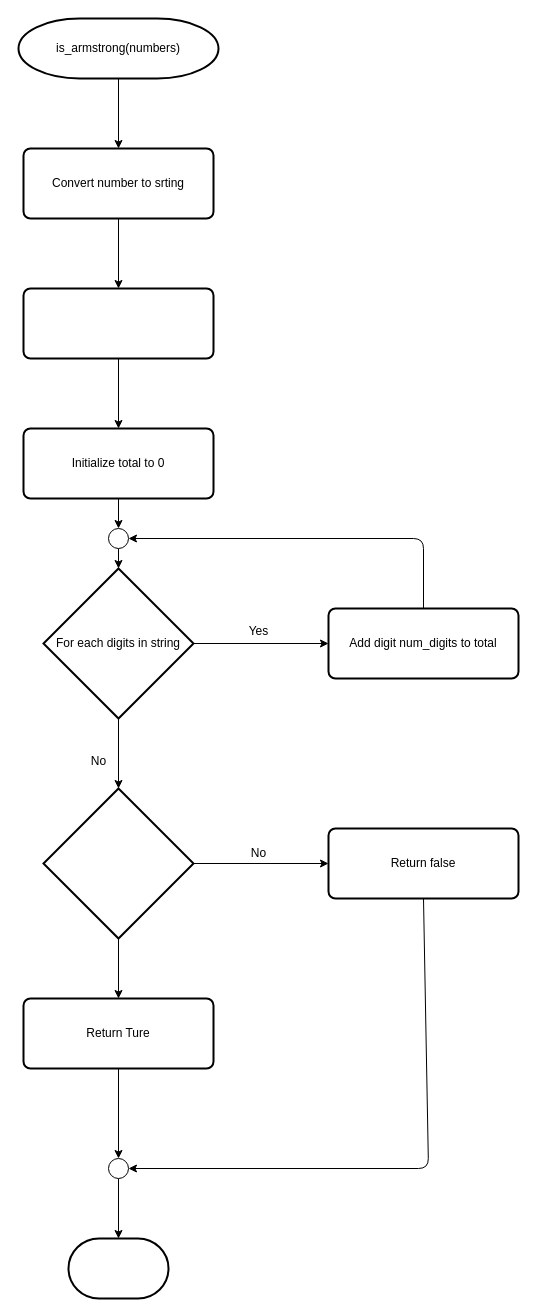
The diagram is 536 pixels wide and 1316 high, and some of its shapes have lost their labels. The centre of each missing label's shape, as x and y in pixels:
"Get number fo digits" goes at [118,323].
"Is total equal to number?" goes at [118,863].
"stop" goes at [118,1268].
